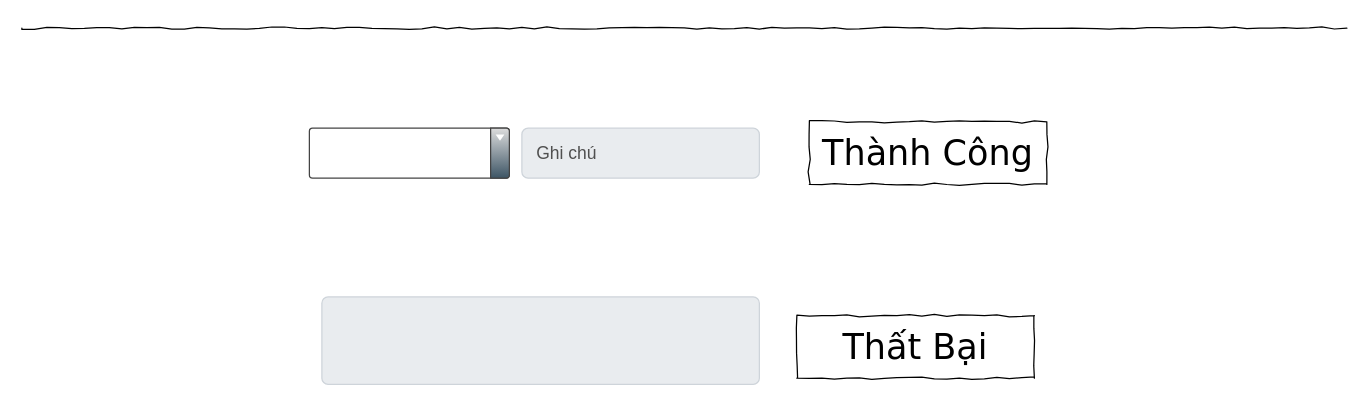
This 1369x406 diagram has some shape labels left out. The shapes that lost their labels are listed below. From the top down, each one's centre as x and y in pixels, then its label:
At pixel 408 152: "Account chuyển".
At pixel 540 340: "Lý do thất bại".
